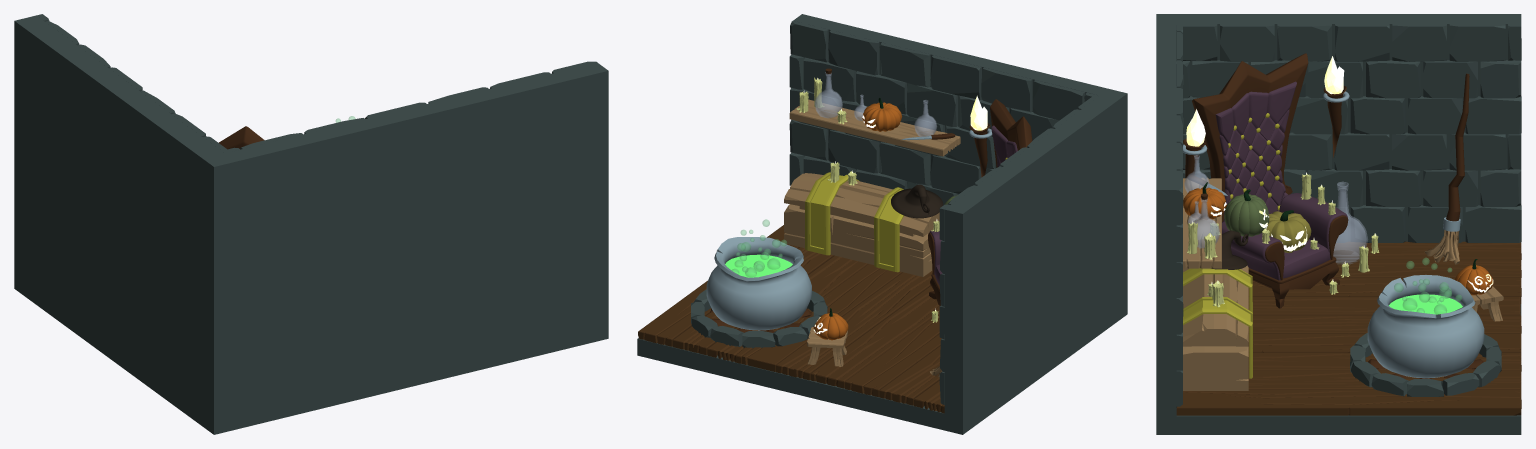
Rendered from Whitch's_room.glb.
3 views of the same model, side by side, from view 1: azimuth 30°, elevation 25°; view 2: azimuth 150°, elevation 25°; view 3: azimuth 270°, elevation 25° (orthographic). The views are drawn at different scales.
Parts seen in each view (by area): view 1: Plane_3, Plane.020_1, Plane.014_0, object 49; view 2: Plane_3, Plane.020_1, Plane.021_2, Cube.013_59, Circle.001_58, Plane.024_4, Cube.011_52, object 49, Plane.014_0, object 48, Circle.003_51, Circle_50 (+5 smaller); view 3: Plane.014_0, Plane.021_2, Plane_3, object 49, Circle.001_58, Cube.013_59, Cube.011_52, Plane.020_1, Plane.024_4, Cube.023_29, Cylinder.006_18, Sphere.003_9 (+14 smaller).
Boxes of the visible parts, x1,y1,x2,y2 form: Plane_3: [14, 15, 608, 434]; Plane.020_1: [223, 61, 597, 152]; Plane.014_0: [37, 14, 226, 153]; object 49: [219, 126, 264, 149]; Plane_3: [637, 14, 1127, 434]; Plane.020_1: [789, 21, 1098, 205]; Plane.021_2: [638, 225, 944, 413]; Cube.013_59: [784, 172, 939, 276]; Circle.001_58: [706, 237, 811, 330]; Plane.024_4: [789, 99, 960, 156]; Cube.011_52: [691, 289, 827, 348]; object 49: [928, 99, 1032, 305]; Plane.014_0: [939, 95, 1099, 404]; object 48: [891, 184, 943, 218]; Circle.003_51: [725, 254, 792, 277]; Circle_50: [862, 98, 902, 131]; Plane.014_0: [1176, 24, 1521, 242]; Plane.021_2: [1176, 241, 1521, 415]; Plane_3: [1156, 14, 1521, 434]; object 49: [1192, 53, 1348, 308]; Circle.001_58: [1367, 275, 1484, 378]; Cube.013_59: [1183, 265, 1252, 390]; Cube.011_52: [1350, 333, 1501, 396]; Plane.020_1: [1176, 24, 1183, 406]; Plane.024_4: [1183, 177, 1221, 268]; Cube.023_29: [1224, 189, 1269, 236]; Cylinder.006_18: [1443, 73, 1469, 231]; Sphere.003_9: [1333, 182, 1367, 264].
Bounding box in the file's own units: 9.14 × 5.92 × 8.01.
